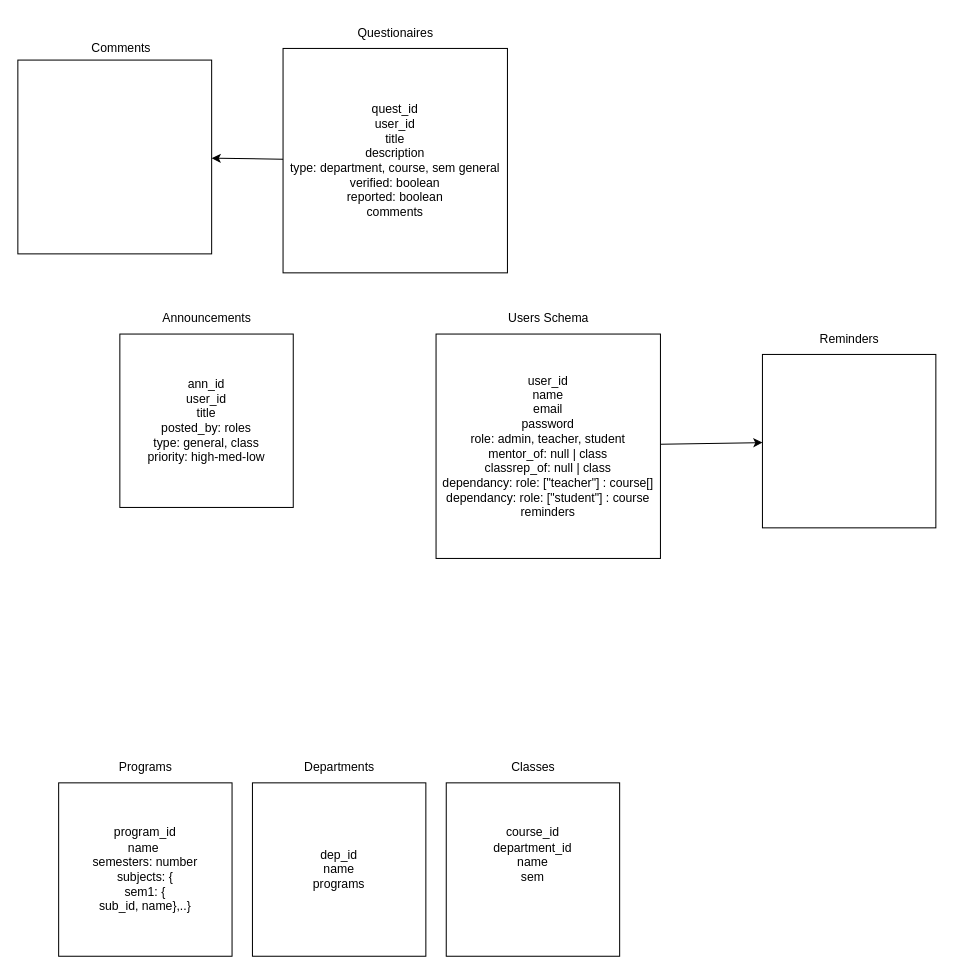
The diagram is 954 pixels wide and 974 high, and some of its shapes have lost their labels. Here are the shapes that lost their labels. From the top down, the centre of each, then its label:
point 114,156: user_id text verified_by
point 848,440: rem_id title description priority: high-med-low
